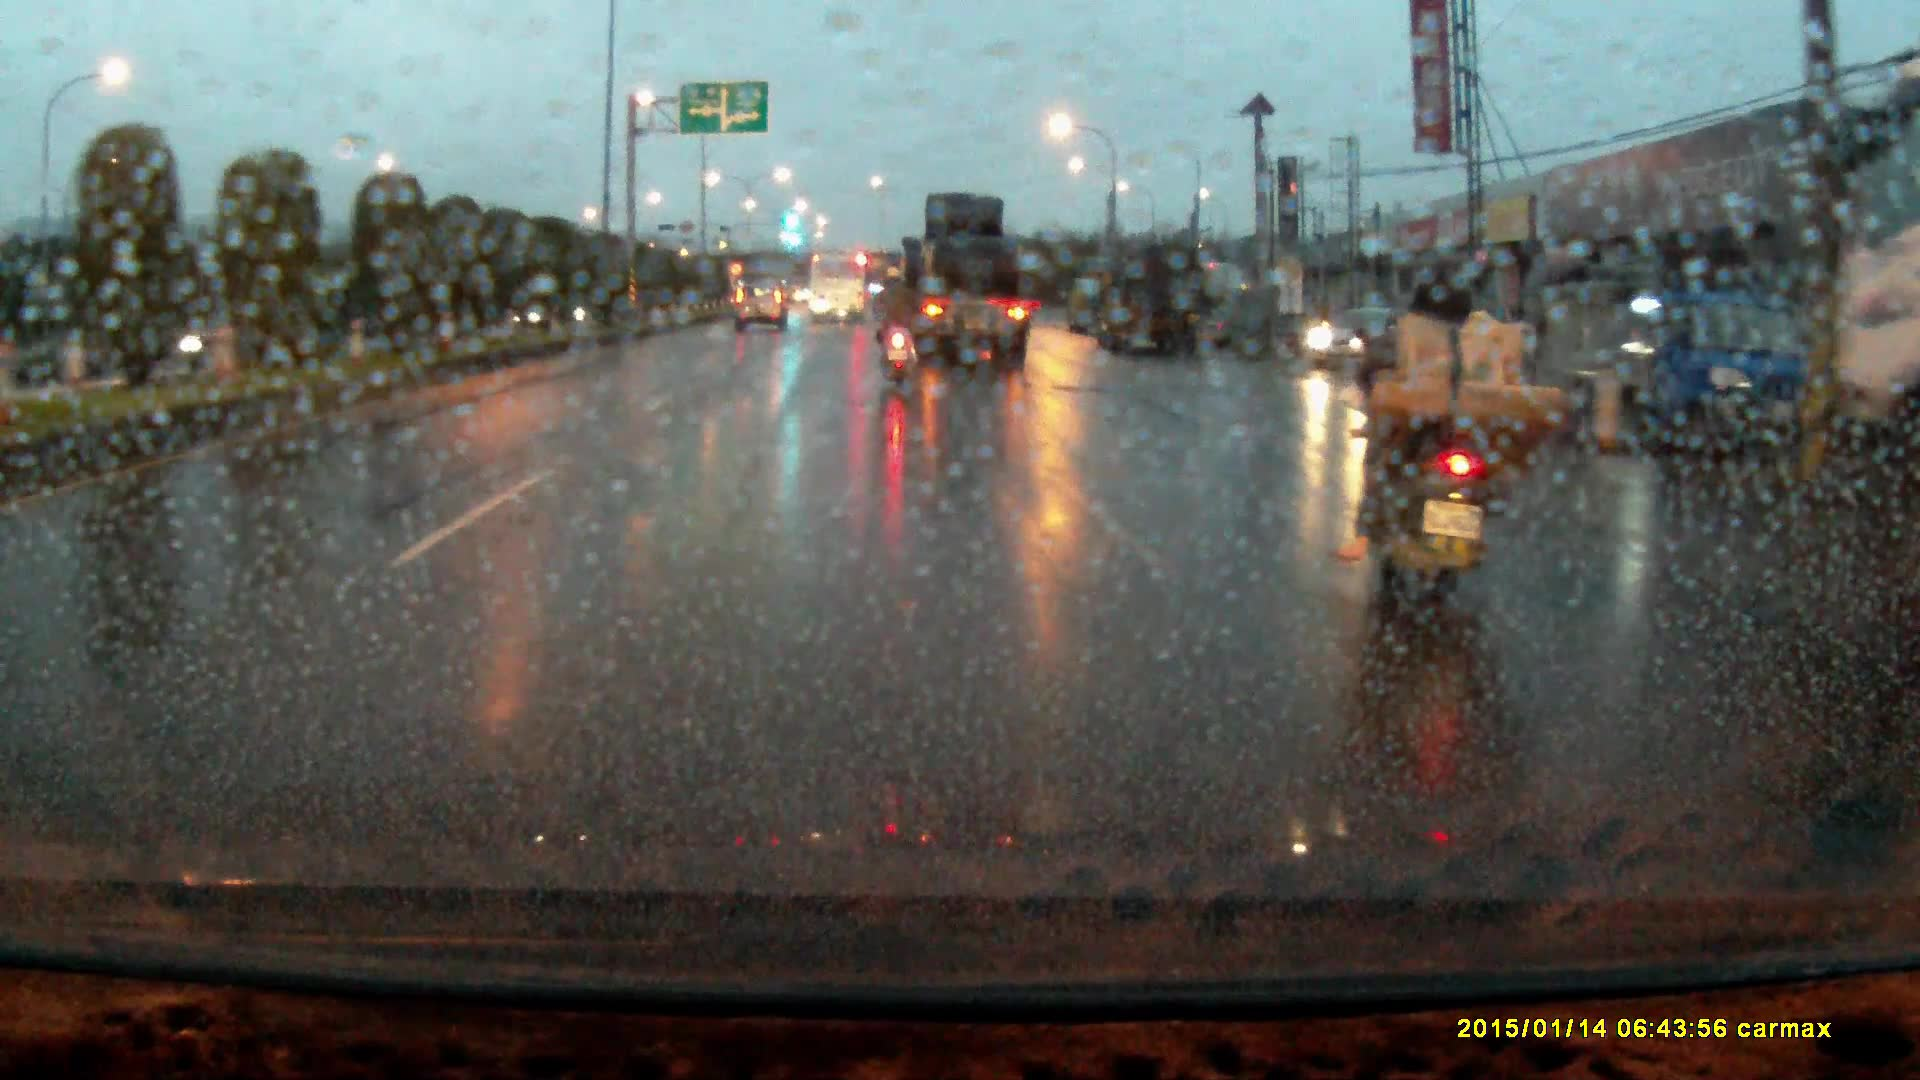rider: (1345, 251, 1578, 655), (873, 265, 926, 383)
vehicle: (1823, 136, 1920, 595), (1568, 286, 1804, 458), (887, 197, 1026, 372), (1105, 251, 1211, 365), (809, 252, 868, 329), (1066, 279, 1116, 338), (735, 289, 790, 339)
